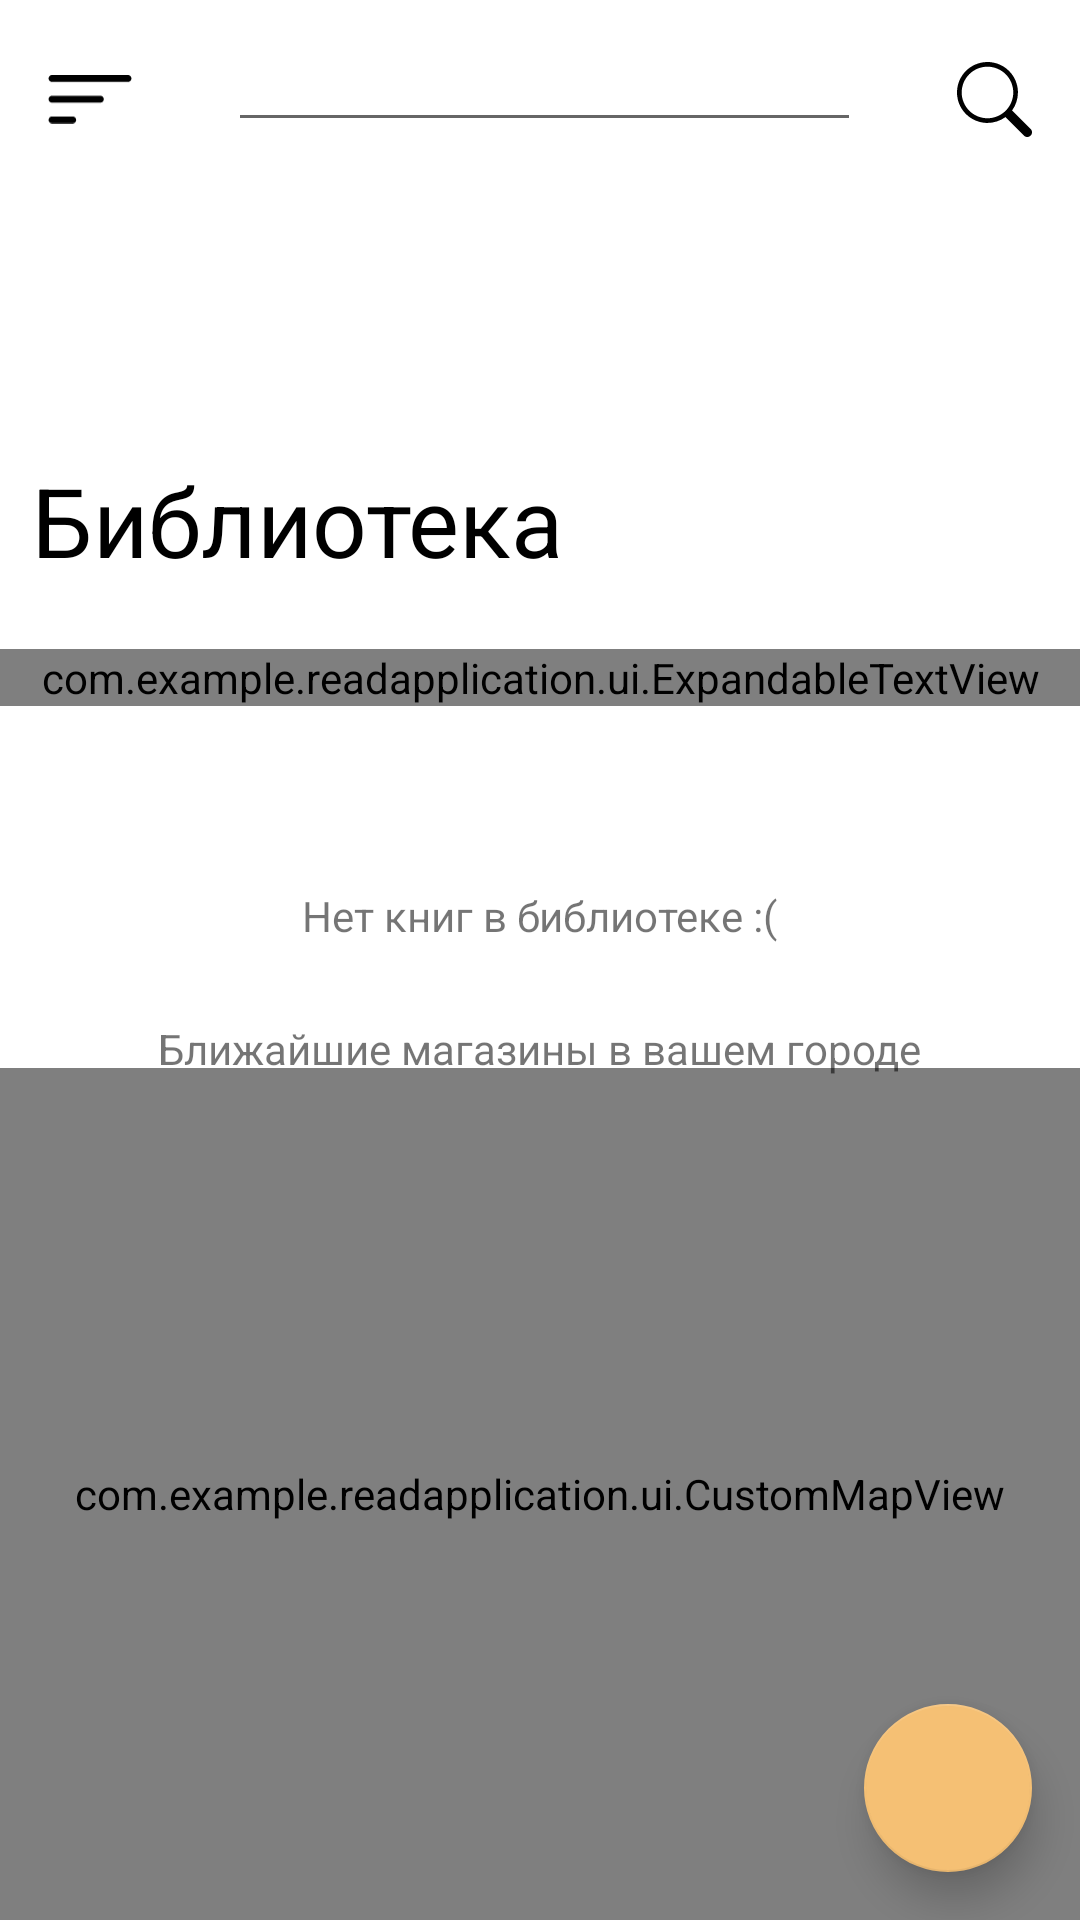

Icon bounding boxes for this 1080*1920 phone screenshot, format {"x1": x1, "y1": y1, "x2": x2, "y2": y2}:
menu: {"x1": 48, "y1": 75, "x2": 132, "y2": 124}
search: {"x1": 957, "y1": 62, "x2": 1032, "y2": 137}
